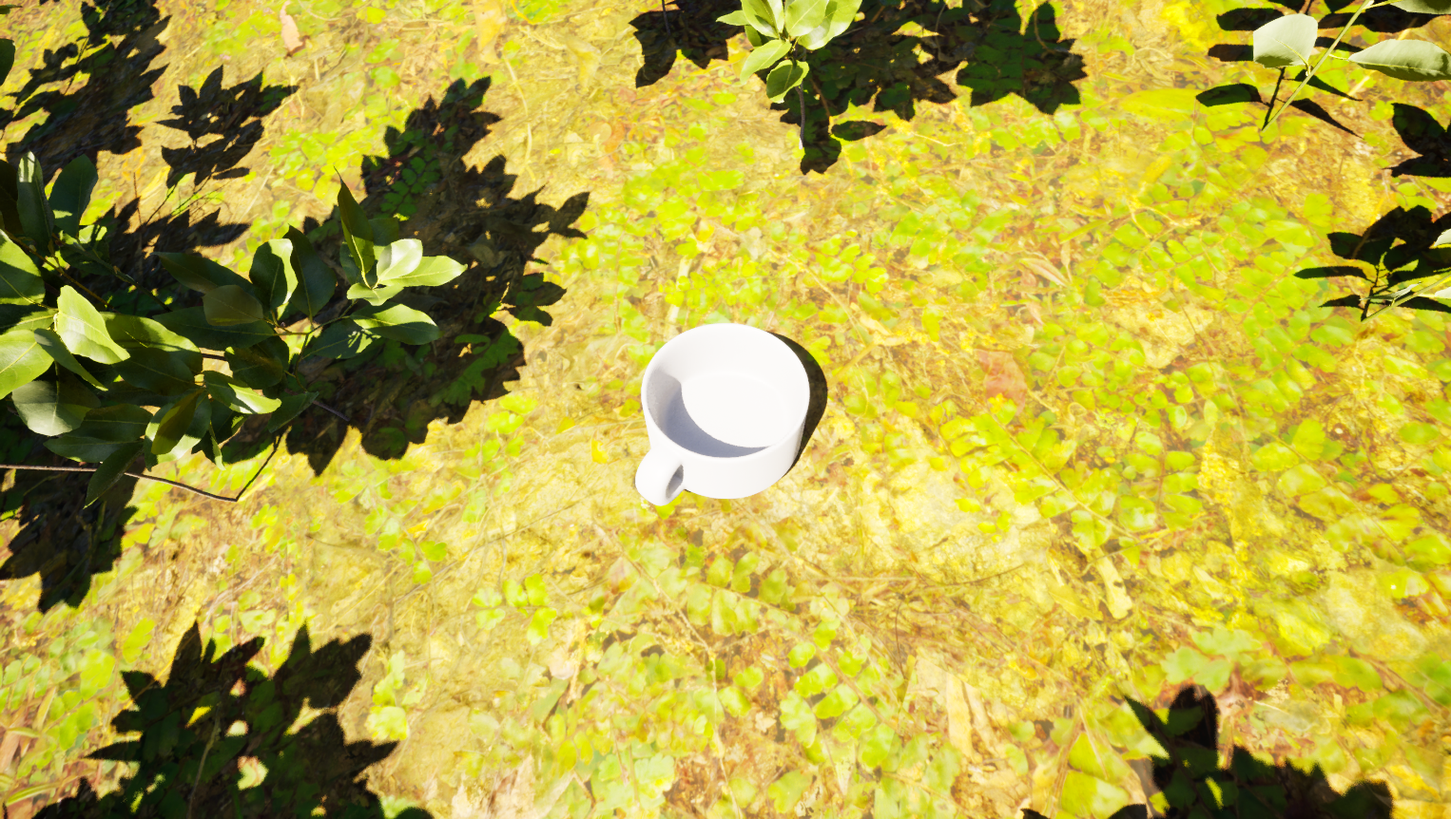Teacup: (600, 307, 837, 527)
